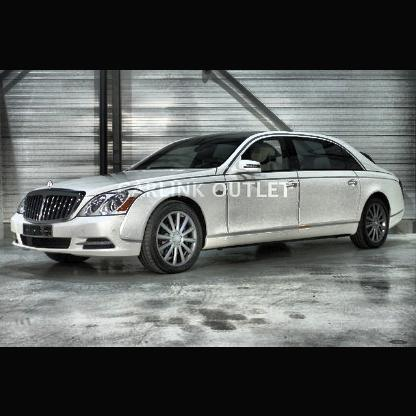Maybach Landaulet Convertible 2012: (11, 132, 405, 275)
